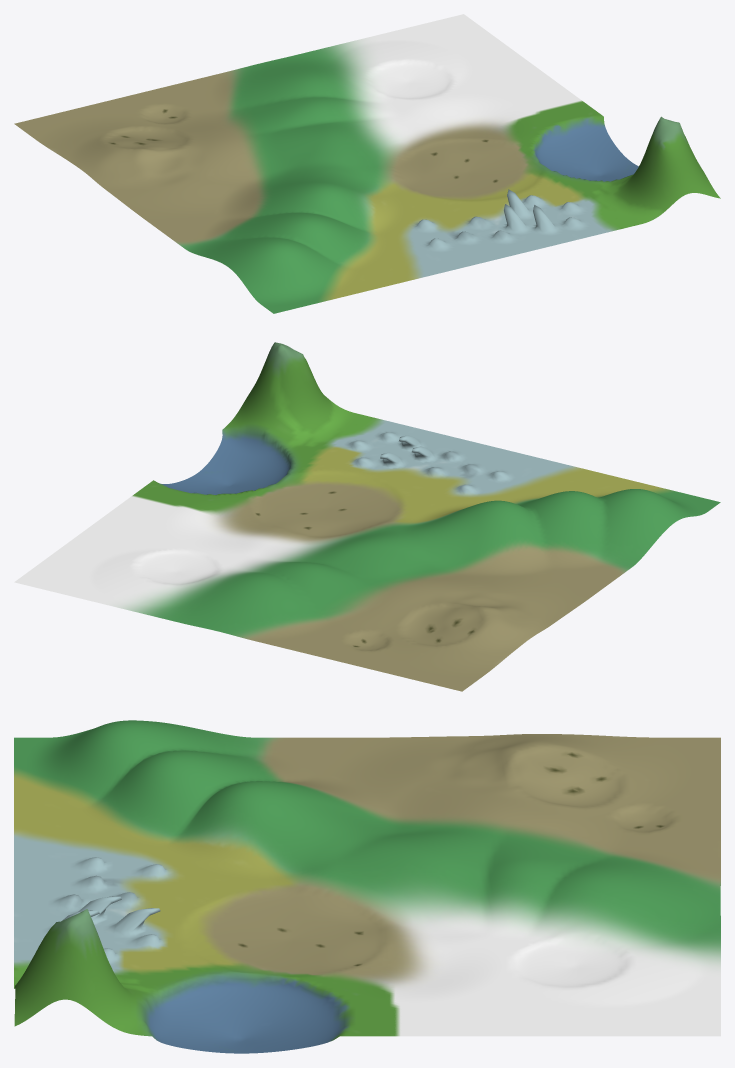
The model's file is randomish_terrain.obj.
3 renders of one model, top to bottom at view 1: azimuth 30°, elevation 25°; view 2: azimuth 150°, elevation 25°; view 3: azimuth 270°, elevation 25°, orthographic. The views are drawn at different scales.
Visible parts, largest first — view 1: Plane; view 2: Plane; view 3: Plane.
Boxes of the visible parts, x1,y1,x2,y2 form: Plane: (14, 14, 720, 313); Plane: (14, 342, 720, 691); Plane: (14, 720, 720, 1053).
Bounding box in the file's own units: 100 × 20.99 × 100.
